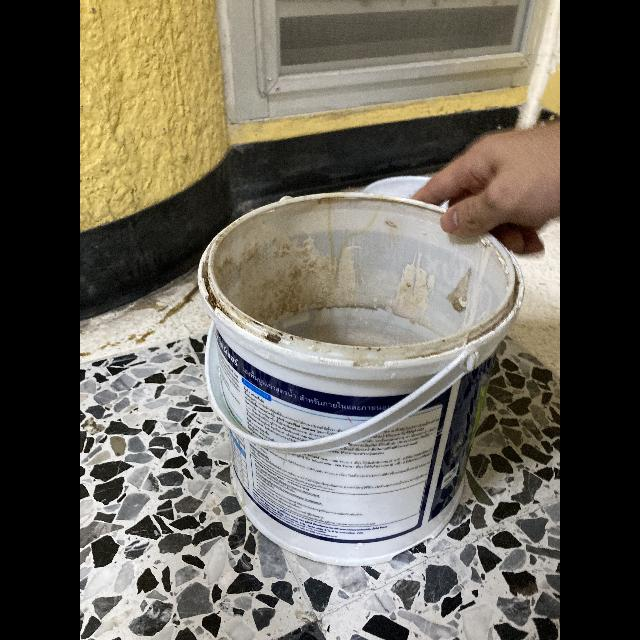paint_bucket: (198, 189, 524, 559)
